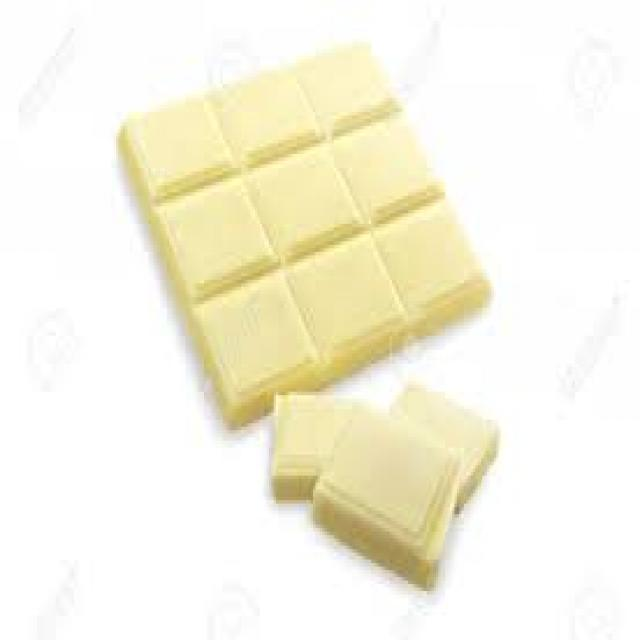Chocolate: (118, 35, 496, 423), (268, 377, 503, 596)
